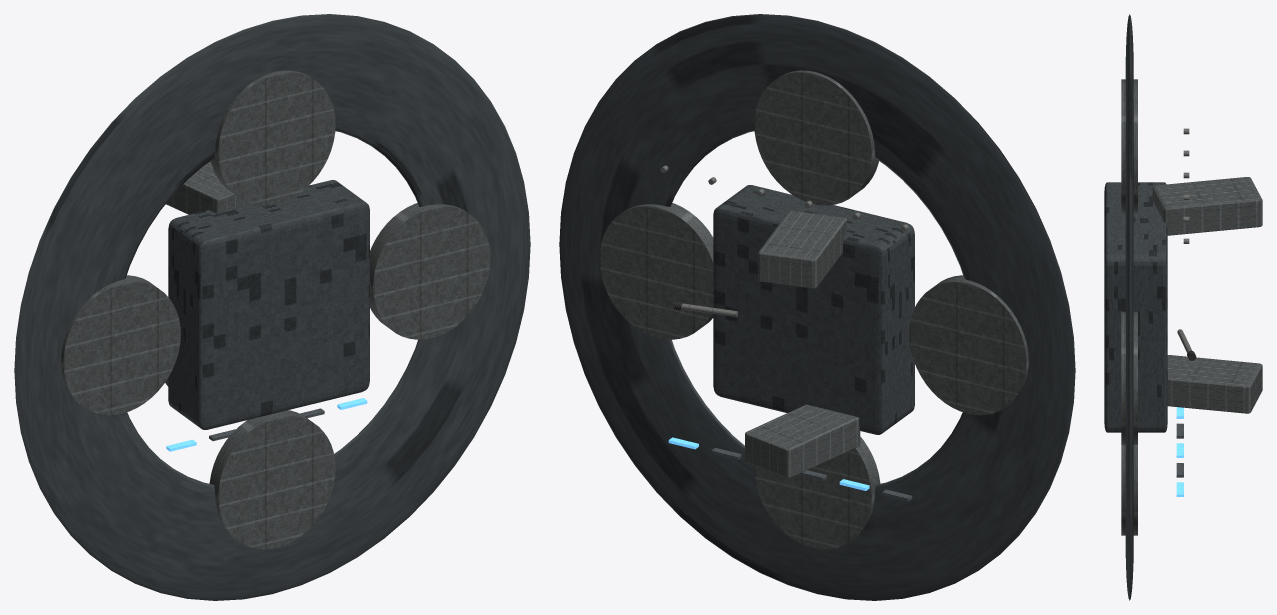
Rendered from s-u28-specter-repair-drone-lod0.glb.
The picture shows the model from 3 angles, left to right: view 1: azimuth 30°, elevation 25°; view 2: azimuth 150°, elevation 25°; view 3: azimuth 270°, elevation 25°; orthographic projection. The views are drawn at different scales.
Visible parts, largest first — view 1: drone_ring, drone_core, drone_fan_3, drone_fan_0, drone_fan_1, drone_fan_2, service_claw_1; view 2: drone_ring, drone_core, drone_fan_1, drone_fan_2, drone_fan_0, drone_fan_3, service_claw_-1, service_claw_1; view 3: drone_core, service_claw_1, drone_ring, service_claw_-1, drone_fan_1, drone_fan_0, drone_fan_3.
Boxes of the visible parts, bbox=[...] form: drone_ring: bbox=[14, 14, 530, 600]; drone_core: bbox=[168, 180, 369, 429]; drone_fan_3: bbox=[209, 410, 335, 549]; drone_fan_0: bbox=[370, 203, 490, 339]; drone_fan_1: bbox=[211, 70, 335, 205]; drone_fan_2: bbox=[61, 275, 180, 415]; service_claw_1: bbox=[166, 161, 247, 214]; drone_ring: bbox=[559, 14, 1075, 600]; drone_core: bbox=[713, 185, 914, 434]; drone_fan_1: bbox=[754, 70, 878, 205]; drone_fan_2: bbox=[909, 275, 1028, 415]; drone_fan_0: bbox=[599, 203, 713, 339]; drone_fan_3: bbox=[754, 436, 880, 549]; service_claw_-1: bbox=[745, 404, 860, 477]; service_claw_1: bbox=[758, 210, 846, 288]; drone_core: bbox=[1104, 182, 1167, 432]; service_claw_1: bbox=[1152, 177, 1262, 235]; drone_ring: bbox=[1125, 14, 1133, 600]; service_claw_-1: bbox=[1167, 355, 1262, 413]; drone_fan_1: bbox=[1121, 79, 1137, 212]; drone_fan_0: bbox=[1121, 311, 1137, 444]; drone_fan_3: bbox=[1121, 445, 1137, 535].
Size of what is drawn, in the model's own units: 5.5 by 5.83 by 1.55.
Materials: 6 (6 with a texture image).
